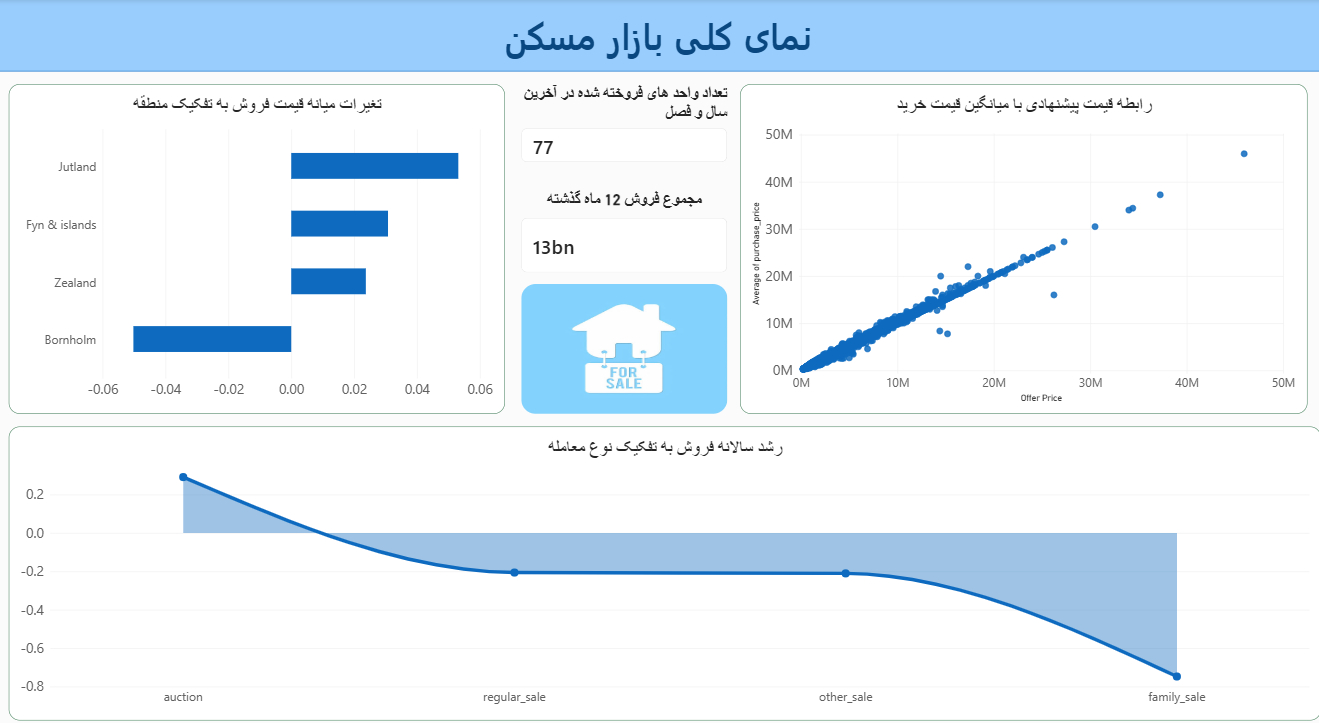

This screenshot's page, from the dashboard's own definition file:
{"tool":"powerbi","page":{"name":"House market overview","canvas":[1920,1080],"ordinal":0},"visuals":[{"type":"lineChart","title":"رشد سالانه فروش به تفکیک نوع معامله","fields":{"Category":["Housing.sales_type"],"Y":["Housing.\"YOY_Sales_Growth"]},"box":[19.9,618.9,1900.1,425.3],"z":0},{"type":"scatterChart","title":"رابطه قیمت پیشنهادی با  میانگین قیمت خرید","fields":{"X":["Housing.Offer Price"],"Y":["Avg(Housing.purchase_price)"]},"box":[1078.6,123.1,821.6,477.8],"z":1000},{"type":"barChart","title":"تغیرات میانه قیمت فروش  به تفکیک منطقه","fields":{"Category":["Housing.region"],"Y":["Housing.\"Median Sales Price Change"]},"box":[20.6,123.5,718.4,477.5],"z":2000},{"type":"cardVisual","title":"تعداد واحد های فروخته شده در آخرین سال و فصل ","fields":{"Data":["Housing.\"Units sold in latest Year & Quarter"]},"box":[761.6,123.5,298.5,113.2],"z":3000},{"type":"cardVisual","title":"مجموع فروش 12 ماه گذشته   ","fields":{"Data":["Housing.Last 12 Month Sales"]},"box":[761.9,276.9,298.6,119.4],"z":4000},{"type":"image","box":[761.9,412.6,298.6,188.2],"z":5000},{"type":"shape","box":[0,0,1920.4,105],"z":6000}]}

Visuals, with their boxes in screenshot pixels (x1, y1, x2, y2), scaled from the page's 1920x1080 canvas onto the 1319x723 screenshot:
"رشد سالانه فروش به تفکیک نوع معامله" lineChart: box=[14, 414, 1318, 699]
"رابطه قیمت پیشنهادی با  میانگین قیمت خرید" scatterChart: box=[741, 82, 1305, 402]
"تغیرات میانه قیمت فروش  به تفکیک منطقه" barChart: box=[14, 83, 508, 402]
"تعداد واحد های فروخته شده در آخرین سال و فصل " cardVisual: box=[523, 83, 728, 158]
"مجموع فروش 12 ماه گذشته   " cardVisual: box=[523, 185, 729, 265]
image: box=[523, 276, 729, 402]
shape: box=[0, 0, 1318, 70]
